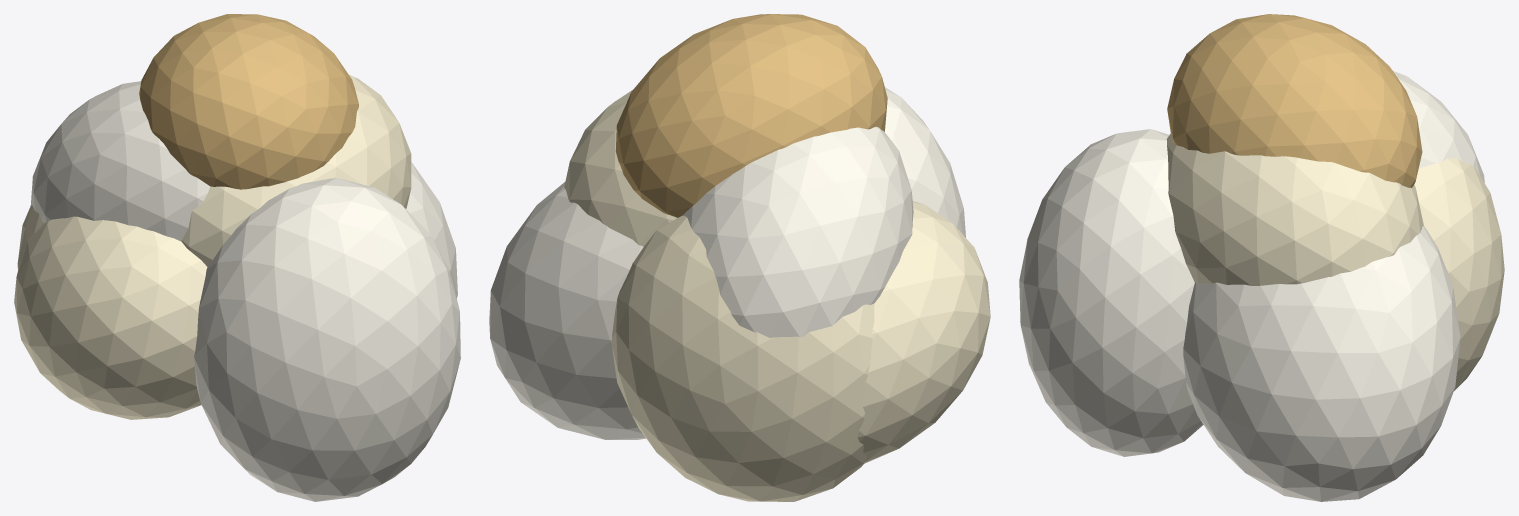
File: scriptpopcorn.glb
3 renders of one model, left to right at view 1: azimuth 30°, elevation 25°; view 2: azimuth 150°, elevation 25°; view 3: azimuth 270°, elevation 25°, orthographic. The views are drawn at different scales.
Visible parts, largest first — view 1: Popcorn; view 2: Popcorn; view 3: Popcorn.
Boxes of the visible parts, left/top/right/bottom form: Popcorn: left=14, top=14, right=460, bottom=501; Popcorn: left=489, top=14, right=990, bottom=501; Popcorn: left=1019, top=14, right=1504, bottom=501.
Size of the model in its own units: 1.5 by 1.4 by 1.48.
